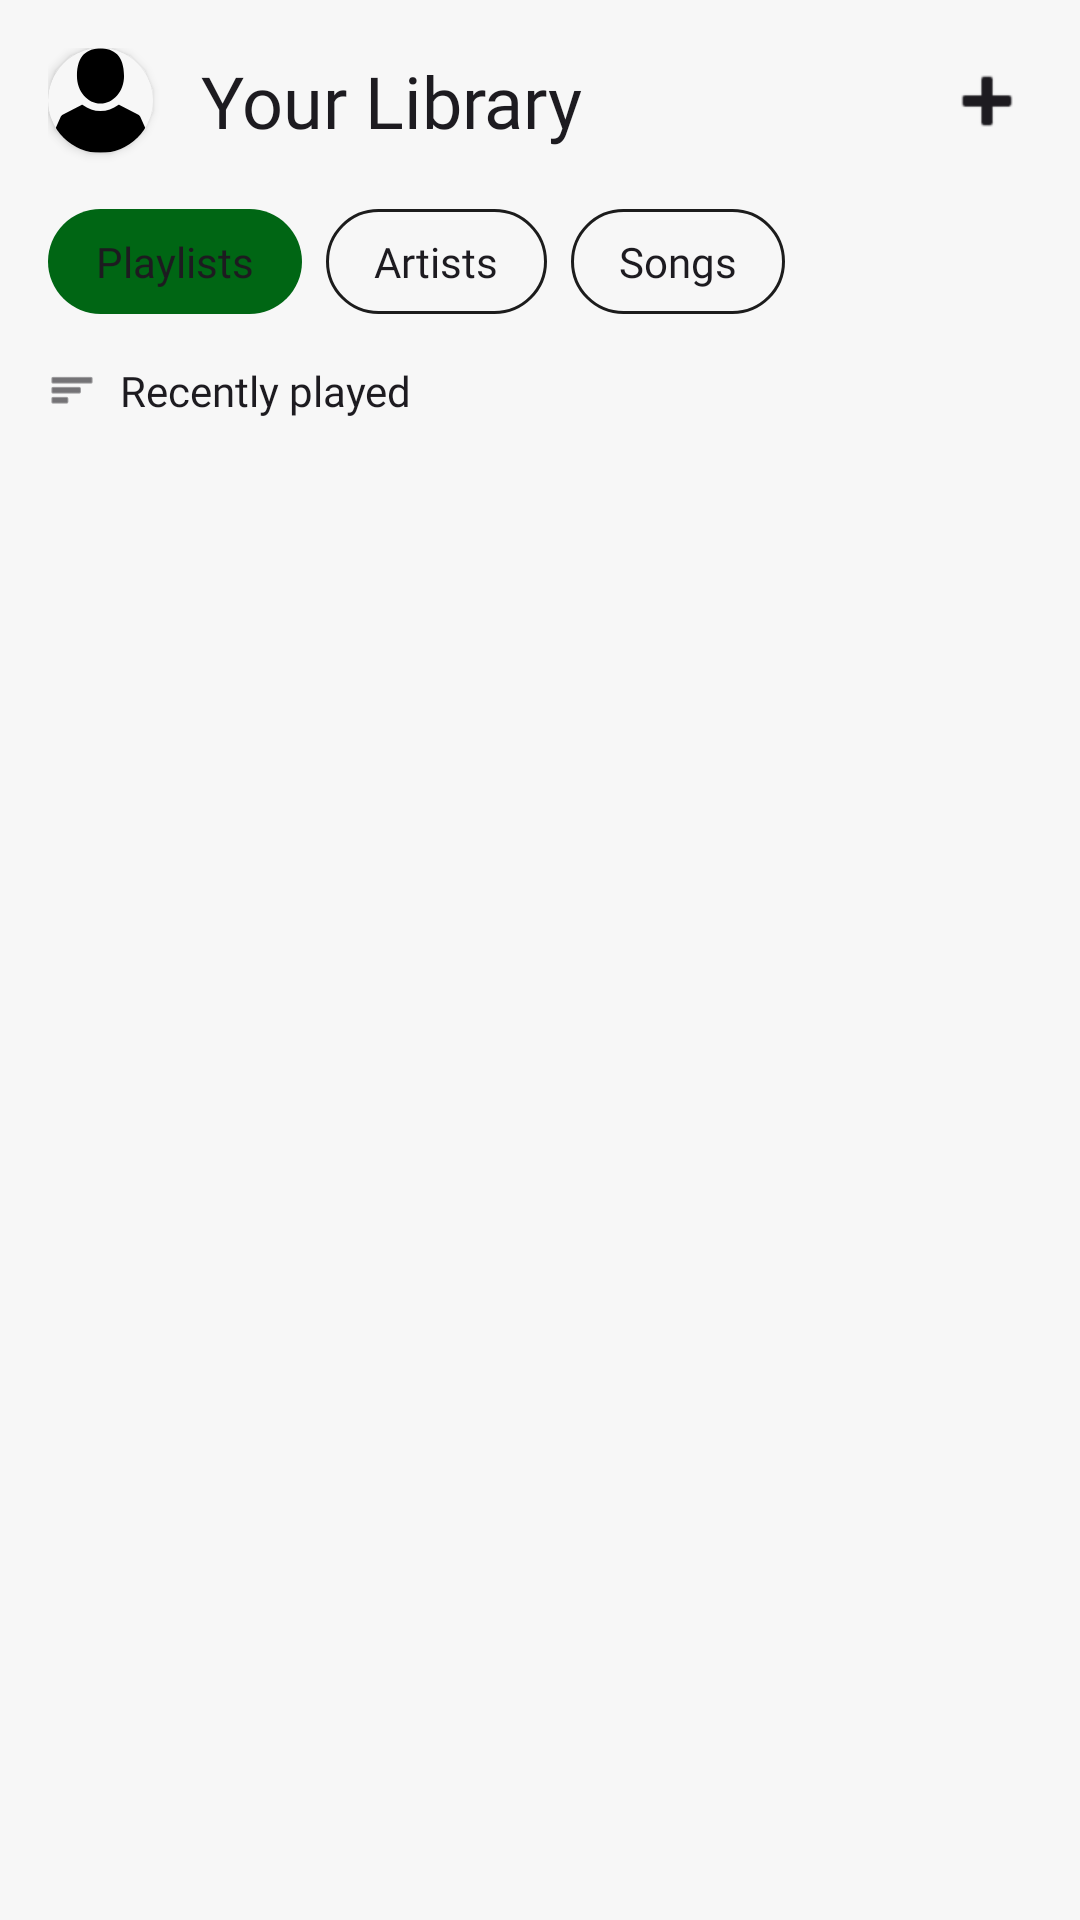

Named icons in this screenshot (1080 x 1920) and their centers, point (x, y):
add: point (987, 101)
sort by size: point (72, 390)
